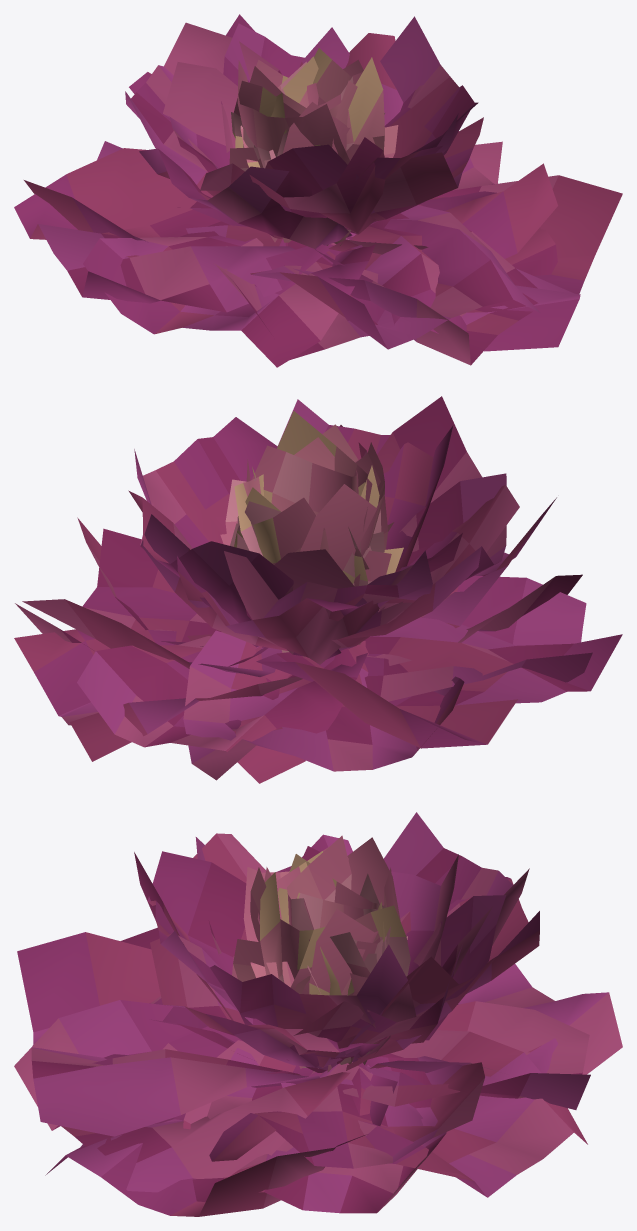
File: salade_rouge_pomme.glb
3 renders of one model, top to bottom at view 1: azimuth 30°, elevation 25°; view 2: azimuth 150°, elevation 25°; view 3: azimuth 270°, elevation 25°, orthographic. The views are drawn at different scales.
Visible parts, largest first — view 1: Salade_Feuilles_ext, Salade_Feuilles_int; view 2: Salade_Feuilles_ext, Salade_Feuilles_int; view 3: Salade_Feuilles_ext, Salade_Feuilles_int.
Part boxes in pixels (left/top/right/bottom): Salade_Feuilles_ext: left=14, top=14, right=622, bottom=367; Salade_Feuilles_int: left=229, top=48, right=398, bottom=245; Salade_Feuilles_ext: left=14, top=396, right=622, bottom=783; Salade_Feuilles_int: left=220, top=411, right=403, bottom=657; Salade_Feuilles_ext: left=14, top=812, right=622, bottom=1216; Salade_Feuilles_int: left=232, top=835, right=410, bottom=1072.
Bounding box in the file's own units: 0.4539 × 0.199 × 0.4187.
